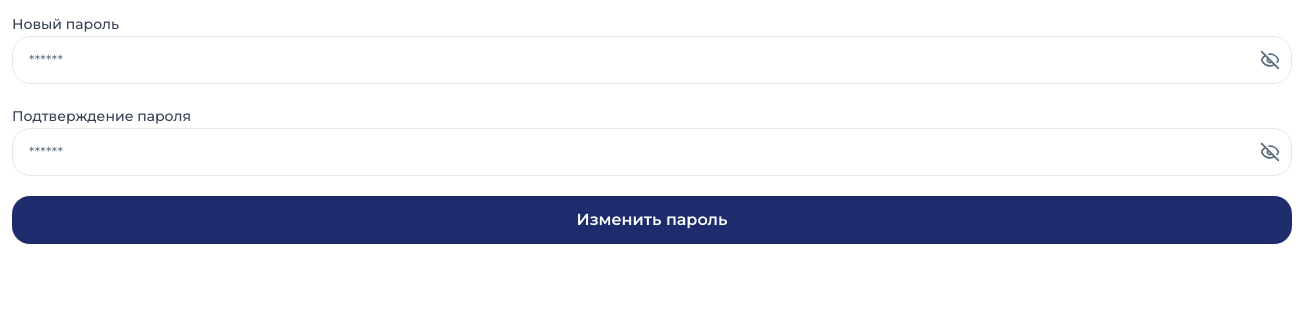
Test: ChangeManagerPasswordForm › проверяет минимальную длину
Type "123" into the password field labelled "Новый пароль".
click(652, 60); type("123")  # box [12,36,1292,84]
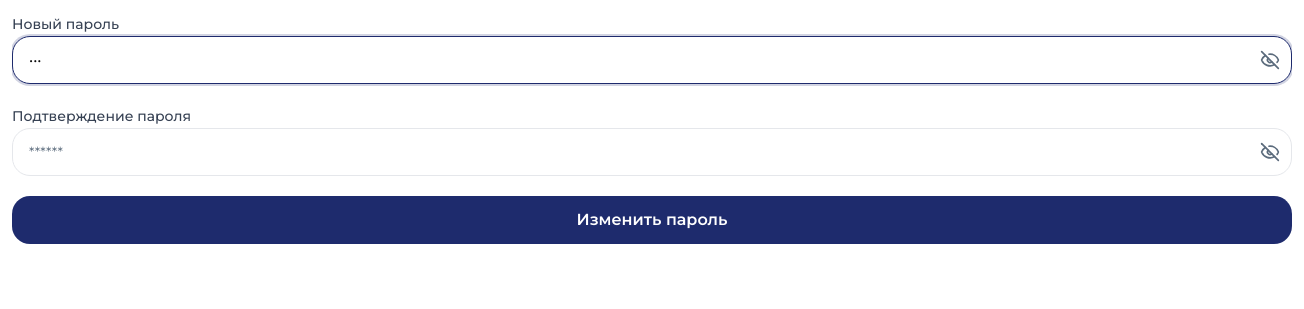
Click the button "Изменить пароль".
click(652, 220)  # box [12,196,1292,244]
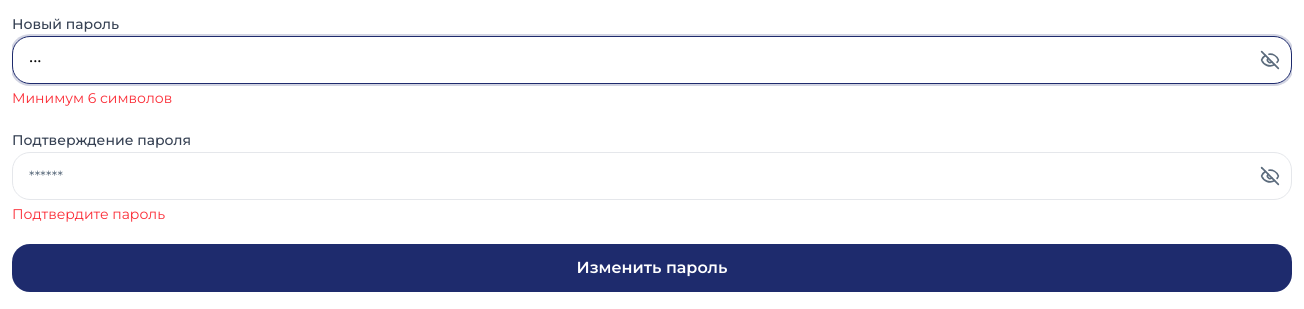
Now the text "Минимум 6 символов" is shown, box [12,89,172,107]
